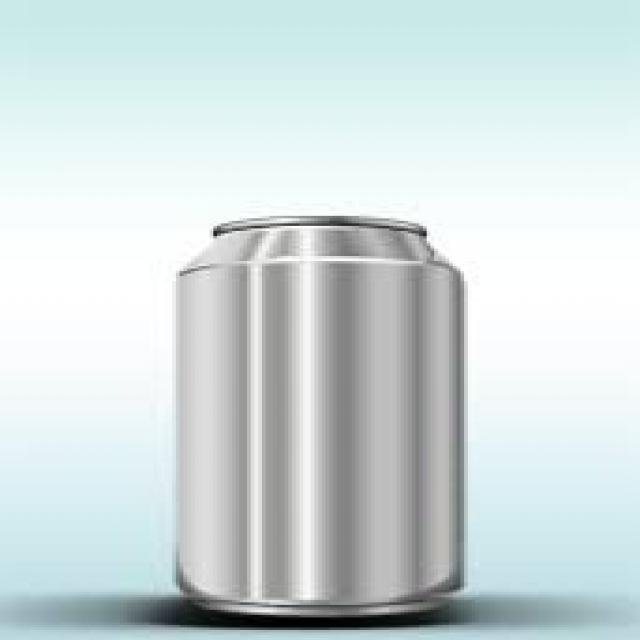recyclable: (177, 214, 464, 616)
